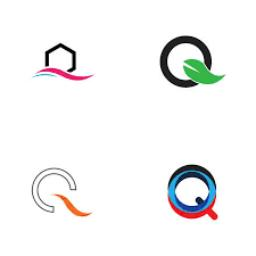q: (152, 151, 224, 227)
